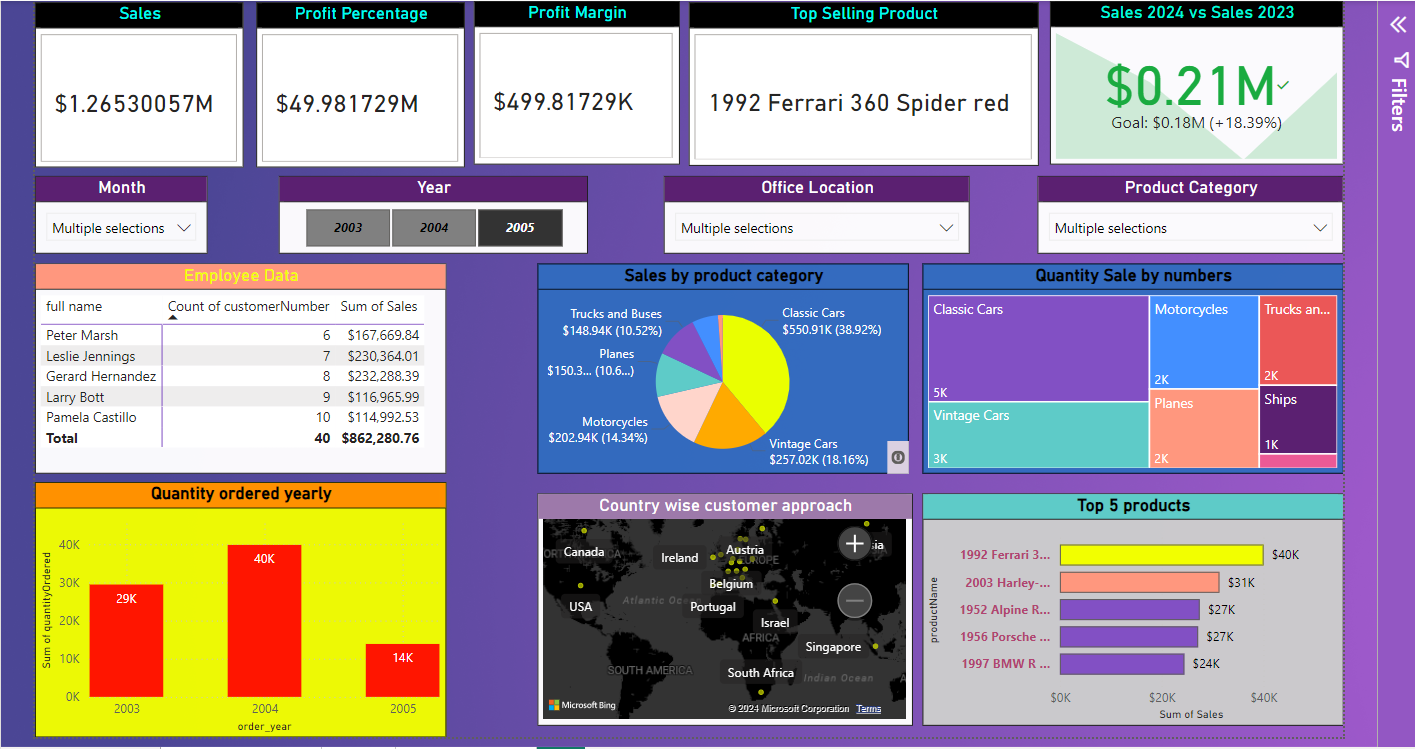

The page's visual inventory and layout, read from the dashboard file:
{"tool":"powerbi","page":{"name":"Final Dashboard","canvas":[1280,720],"ordinal":0},"visuals":[{"type":"cardVisual","title":"Top Selling Product","fields":{"Data":["order_details.mostOrderesProduct"]},"box":[639.5,1.2,342.4,160.2],"z":0},{"type":"barChart","title":"Top 5 products","fields":{"Y":["order_details.Sales"],"Category":["products.productName"]},"box":[868.2,481.8,412.1,227.4],"z":1000},{"type":"pieChart","title":"Sales by product category","fields":{"Category":["products.productLine"],"Y":["order_details.Sales"]},"box":[491.6,256.8,363.2,205.4],"z":2000},{"type":"cardVisual","title":"Profit Margin","fields":{"Data":["order_details.total_profit"]},"box":[429.2,0,201.8,160.2],"z":3000},{"type":"kpi","title":"Sales 2024 vs Sales 2023","fields":{"Goal":["orders.sales_2003"],"TrendLine":["orders.month_name"],"Indicator":["orders.sales_2004"]},"box":[992.9,0,287.4,160.2],"z":4000},{"type":"map","title":"Country wise customer approach","fields":{"Category":["customers.country"]},"box":[491.6,481.8,366.8,227.4],"z":5000},{"type":"treemap","title":"Quantity Sale by numbers","fields":{"Group":["productlines.productLine"],"Values":["order_details.quantityOrdered"]},"box":[868.2,256.8,412.1,205.4],"z":6000},{"type":"clusteredColumnChart","title":"Quantity ordered yearly","fields":{"Category":["orders.order_year"],"Y":["order_details.quantityOrdered"]},"box":[0,470.7,402.1,249.7],"z":7000},{"type":"slicer","title":"Month","fields":{"Values":["orders.month_name"]},"box":[0,171.2,168.8,75.8],"z":8000},{"type":"cardVisual","title":"Sales","fields":{"Data":["order_details.Sales"]},"box":[0,1.2,204.2,161.4],"z":9000},{"type":"cardVisual","title":"Profit Percentage","fields":{"Data":["order_details.profit_percentage"]},"box":[216.4,1.2,204.2,161.4],"z":10000},{"type":"slicer","title":"Year","fields":{"Values":["orders.order_year"]},"box":[238.5,171.2,302,75.8],"z":11000},{"type":"pivotTable","title":"Employee Data","fields":{"Rows":["employees.full name"],"Values":["customers.customerNumber","order_details.Sales"]},"box":[0,256.6,402.1,205.8],"z":12000},{"type":"slicer","title":"Office Location","fields":{"Values":["offices.country"]},"box":[615.1,171.2,299.6,75.8],"z":13000},{"type":"slicer","title":"Product Category","fields":{"Values":["products.productLine"]},"box":[980.7,171.2,299.6,75.8],"z":14000},{"type":"actionButton","box":[833.4,429.9,20.9,32],"z":15000}]}

Visuals, with their boxes in screenshot pixels (x1, y1, x2, y2):
"Top Selling Product" cardVisual: detection(685, 0, 1036, 158)
"Top 5 products" barChart: detection(919, 486, 1341, 719)
"Sales by product category" pieChart: detection(533, 256, 905, 466)
"Profit Margin" cardVisual: detection(469, 0, 676, 157)
"Sales 2024 vs Sales 2023" kpi: detection(1047, 0, 1341, 157)
"Country wise customer approach" map: detection(533, 486, 909, 719)
"Quantity Sale by numbers" treemap: detection(919, 256, 1341, 466)
"Quantity ordered yearly" clusteredColumnChart: detection(29, 475, 441, 731)
"Month" slicer: detection(29, 168, 202, 246)
"Sales" cardVisual: detection(29, 0, 239, 159)
"Profit Percentage" cardVisual: detection(251, 0, 460, 159)
"Year" slicer: detection(274, 168, 583, 246)
"Employee Data" pivotTable: detection(29, 256, 441, 466)
"Office Location" slicer: detection(660, 168, 967, 246)
"Product Category" slicer: detection(1034, 168, 1341, 246)
actionButton: detection(883, 433, 905, 466)
